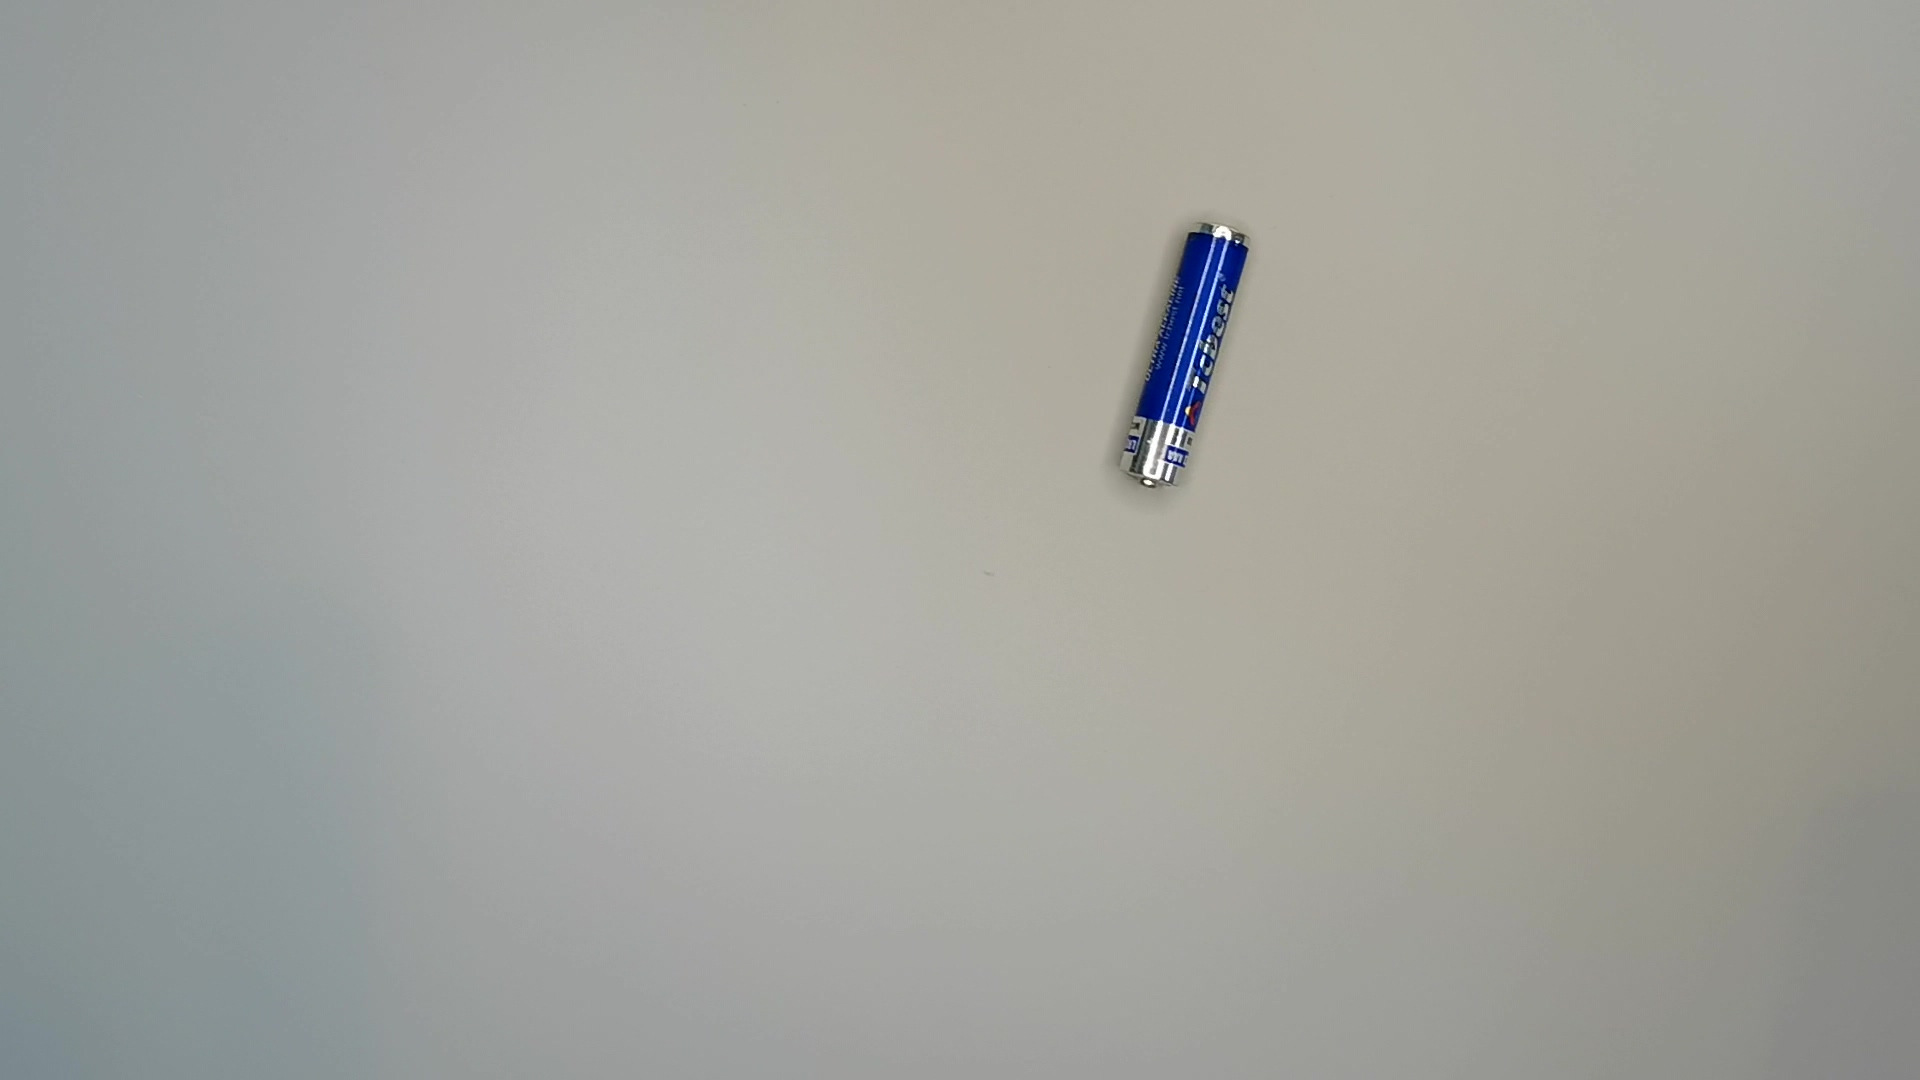battery: (1106, 215, 1251, 495)
